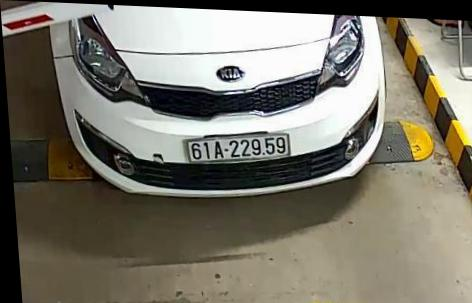License_Plate: (182, 127, 290, 167)
